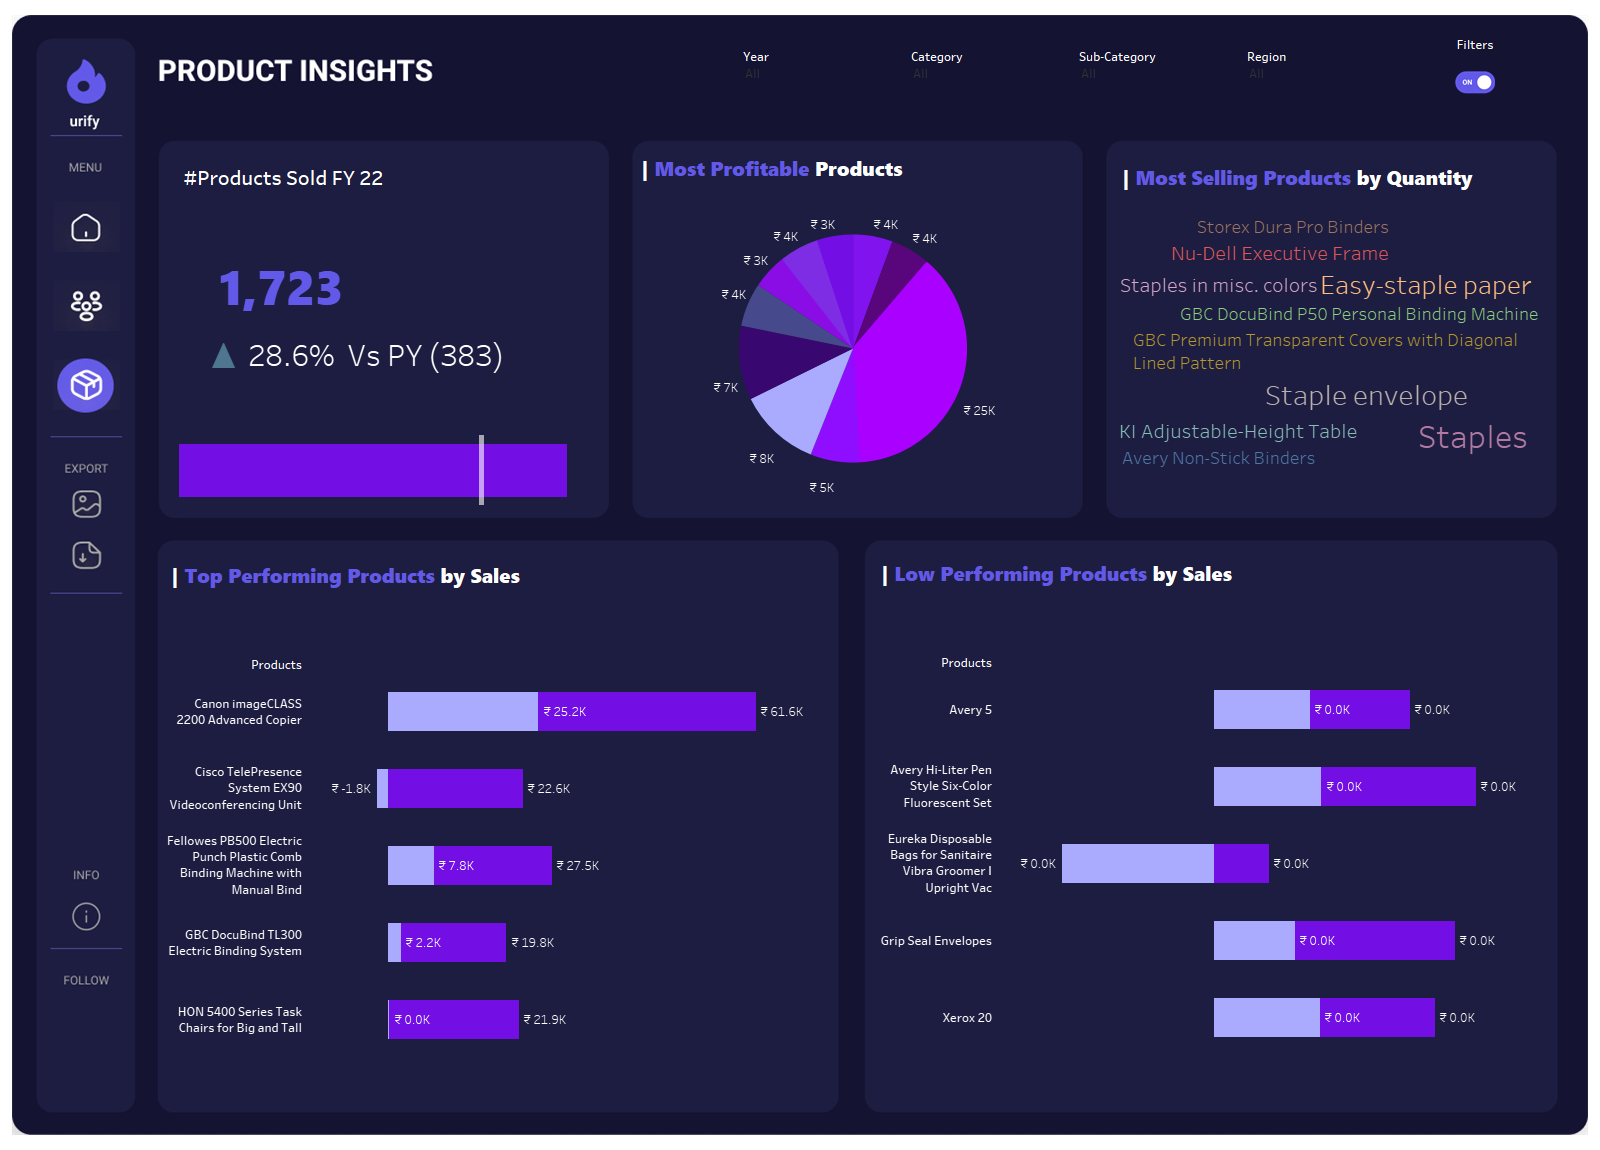

What the dashboard file says about the page in this screenshot:
{"tool":"tableau","page":{"name":"Product Insights","canvas":[1600,1150],"ordinal":1},"visuals":[{"type":"image","param":"C:/Users/pande/Downloads/Product Insights.jpg","box":[8,8,1584,1134]},{"type":"text","box":[1454,29,100,30]},{"type":"filter","title":"#product KPI 1 (d3)","param":"[federated.12c05b20jxacir17us8sh1i0n8jg].[yr:Order Date:ok]","box":[739,43,168,65]},{"type":"filter","title":"#product KPI 1 (d3)","param":"[federated.12c05b20jxacir17us8sh1i0n8jg].[none:Category:nk]","box":[907,43,168,65]},{"type":"filter","title":"#product KPI 1 (d3)","param":"[federated.12c05b20jxacir17us8sh1i0n8jg].[none:Sub-Category:nk]","box":[1075,43,168,65]},{"type":"filter","title":"#product KPI 1 (d3)","param":"[federated.12c05b20jxacir17us8sh1i0n8jg].[none:Region:nk]","box":[1243,43,168,65]},{"type":"dashboard-object","box":[1455,61,40,42]},{"type":"worksheet","title":"most Profitable Products (D3)","mark":"Pie","box":[637,148,432,359]},{"type":"worksheet","title":"#product KPI 1 (d3)","mark":"Automatic","box":[171,157,425,280]},{"type":"worksheet","title":"Most selling products","mark":"Text","box":[1118,157,423,347]},{"type":"dashboard-object","box":[53,193,67,67]},{"type":"dashboard-object","box":[53,272,67,67]},{"type":"dashboard-object","box":[53,351,67,67]},{"type":"worksheet","title":"#Orders KPI 2 ","mark":"Automatic","cols":["CY Sales (copy)_2154972448671924234"],"box":[179,435,408,74]},{"type":"dashboard-object","box":[73,487,29,32]},{"type":"dashboard-object","box":[73,541,29,32]},{"type":"worksheet","title":"Profit/sales (D3) (buttom)","mark":"Bar","rows":["Product Name"],"cols":["Sales","Profit"],"box":[877,553,664,543]},{"type":"worksheet","title":"Profit/sales (D3) (Top)","mark":"Bar","rows":["Product Name"],"cols":["Sales","Profit"],"box":[167,555,659,547]},{"type":"worksheet","title":"Icon","mark":"Automatic","rows":["Calculation_1584985621930827798"],"cols":["Calculation_1584985621930827798"],"box":[57,891,61,49]}]}

Visuals, with their boxes on the page's 1600x1150 design canvas (x1, y1, x2, y2). These are canvas units, not pixel positions in the 1600x1150 screenshot, which may show the page scaled, cropped or inside an application window:
image: BBox(8, 8, 1592, 1142)
text: BBox(1454, 29, 1554, 59)
"#product KPI 1 (d3)" filter: BBox(739, 43, 907, 108)
"#product KPI 1 (d3)" filter: BBox(907, 43, 1075, 108)
"#product KPI 1 (d3)" filter: BBox(1075, 43, 1243, 108)
"#product KPI 1 (d3)" filter: BBox(1243, 43, 1411, 108)
dashboard-object: BBox(1455, 61, 1495, 103)
"most Profitable Products (D3)" worksheet (Pie marks): BBox(637, 148, 1069, 507)
"#product KPI 1 (d3)" worksheet: BBox(171, 157, 596, 437)
"Most selling products" worksheet (Text marks): BBox(1118, 157, 1541, 504)
dashboard-object: BBox(53, 193, 120, 260)
dashboard-object: BBox(53, 272, 120, 339)
dashboard-object: BBox(53, 351, 120, 418)
"#Orders KPI 2 " worksheet: BBox(179, 435, 587, 509)
dashboard-object: BBox(73, 487, 102, 519)
dashboard-object: BBox(73, 541, 102, 573)
"Profit/sales (D3) (buttom)" worksheet (Bar marks): BBox(877, 553, 1541, 1096)
"Profit/sales (D3) (Top)" worksheet (Bar marks): BBox(167, 555, 826, 1102)
"Icon" worksheet: BBox(57, 891, 118, 940)
